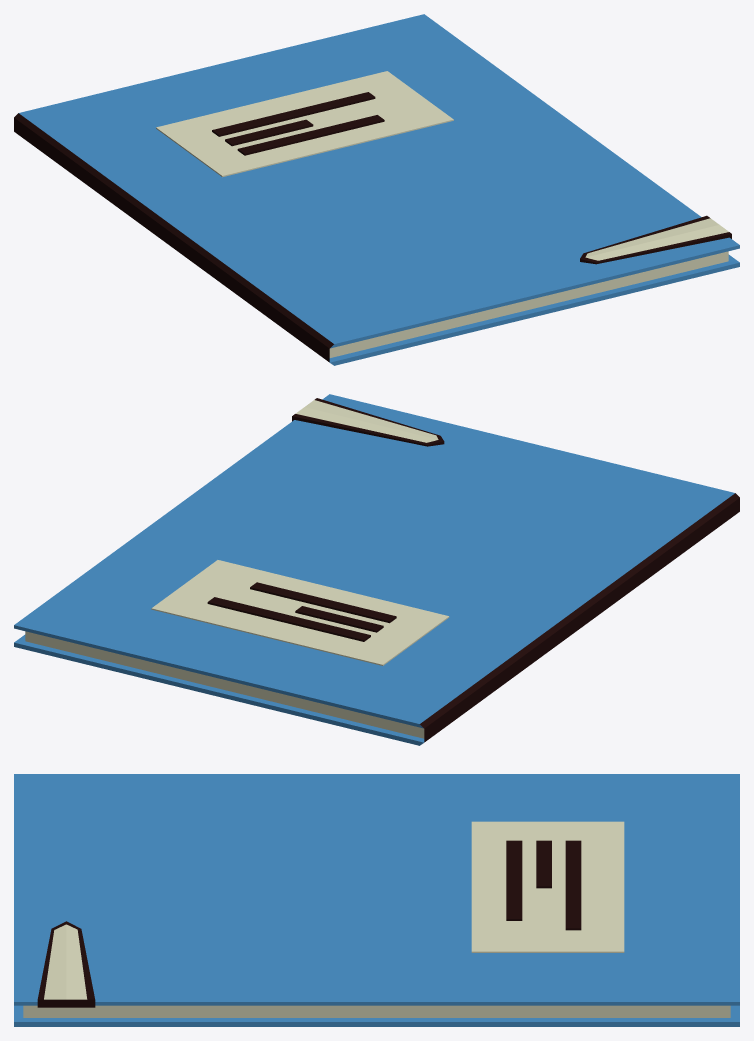
Rendered from notebookCTF.fbx.
The picture shows the model from 3 angles, top to bottom: view 1: azimuth 30°, elevation 25°; view 2: azimuth 150°, elevation 25°; view 3: azimuth 270°, elevation 25°; orthographic projection. The views are drawn at different scales.
Visible parts, largest first — view 1: Cube; view 2: Cube; view 3: Cube.
Part boxes in pixels (<box>): Cube: <box>14,14,739,365</box>; Cube: <box>14,394,739,745</box>; Cube: <box>14,774,739,1026</box>.
Size of the model in its own units: 13.3 by 0.8844 by 17.61.
